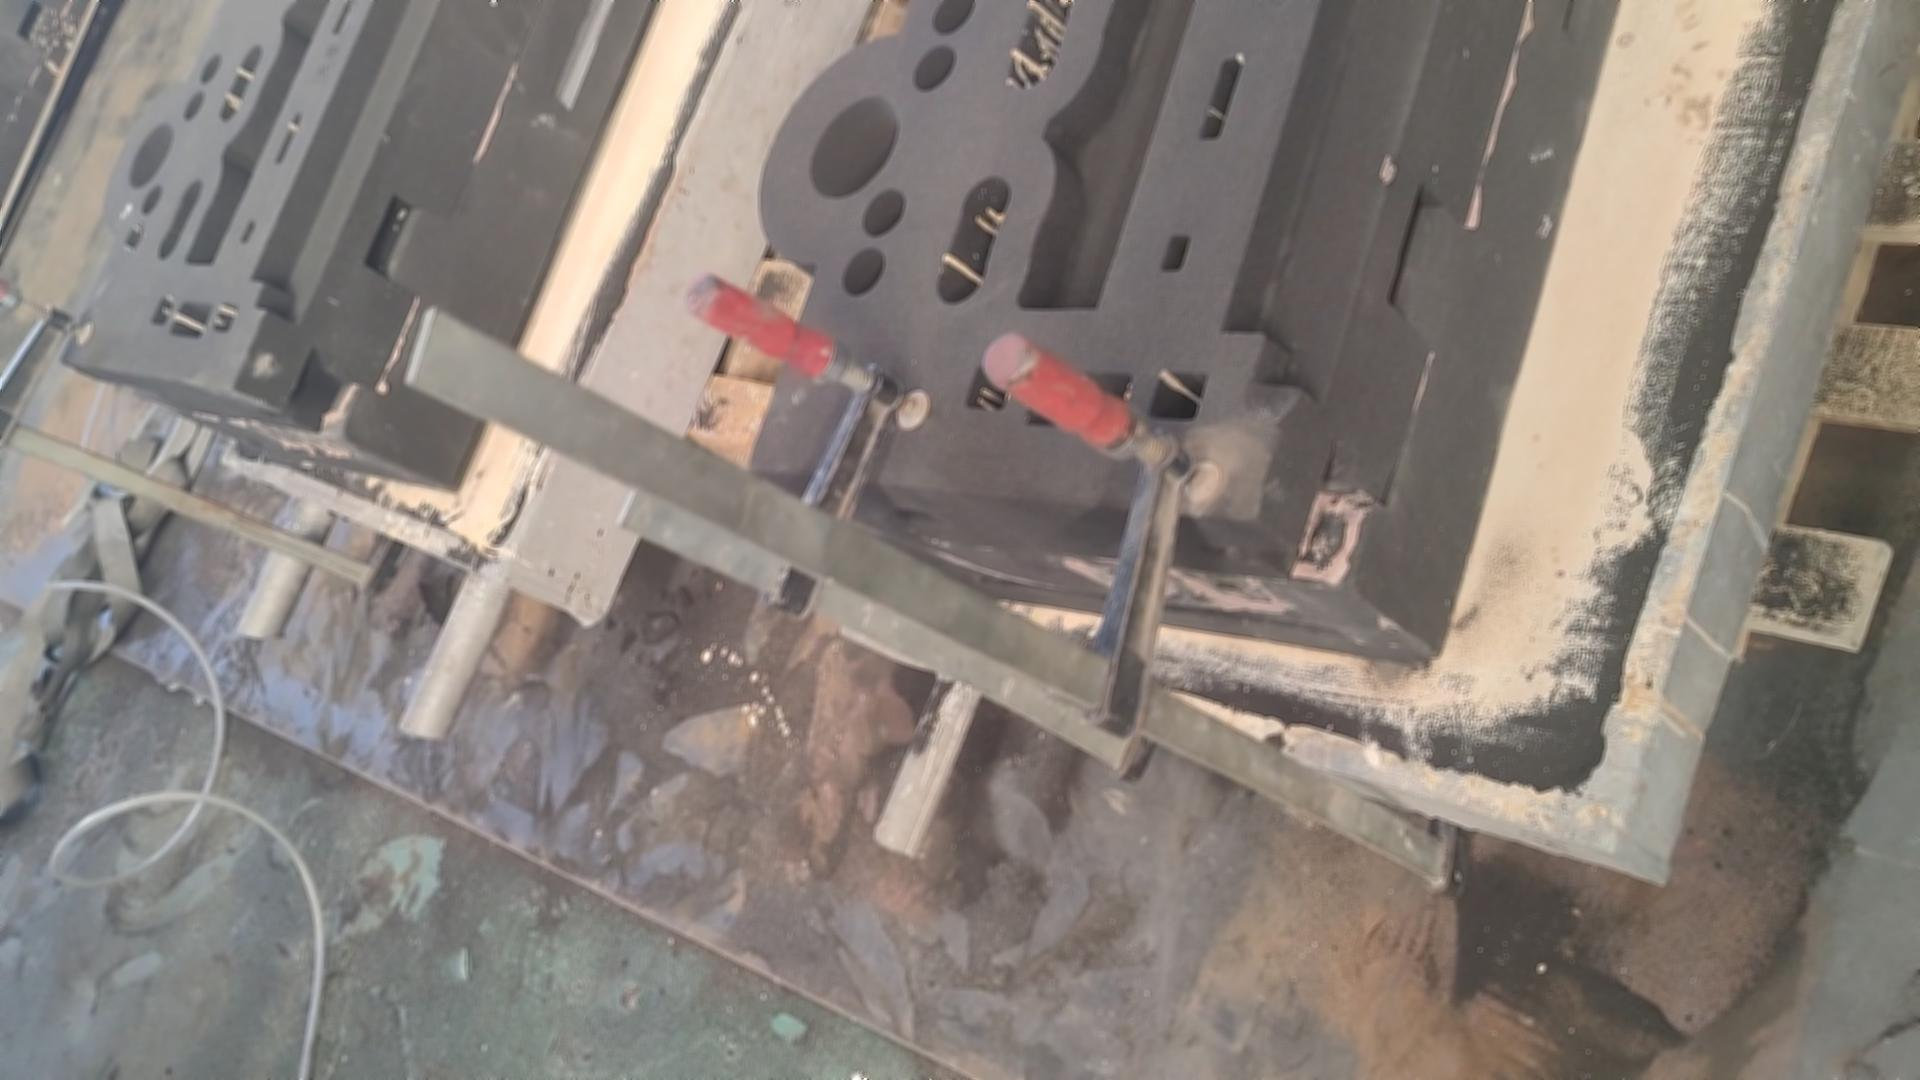pouring hole: (808, 94, 899, 200), (128, 121, 174, 189)
